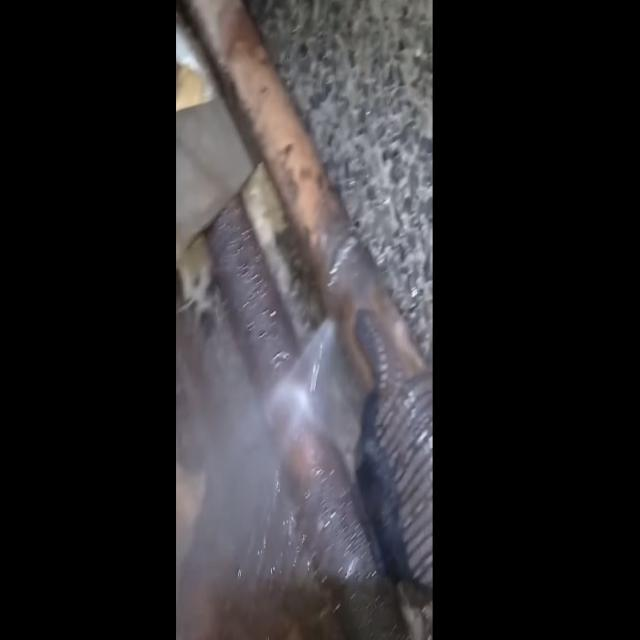leak: (266, 322, 335, 442)
